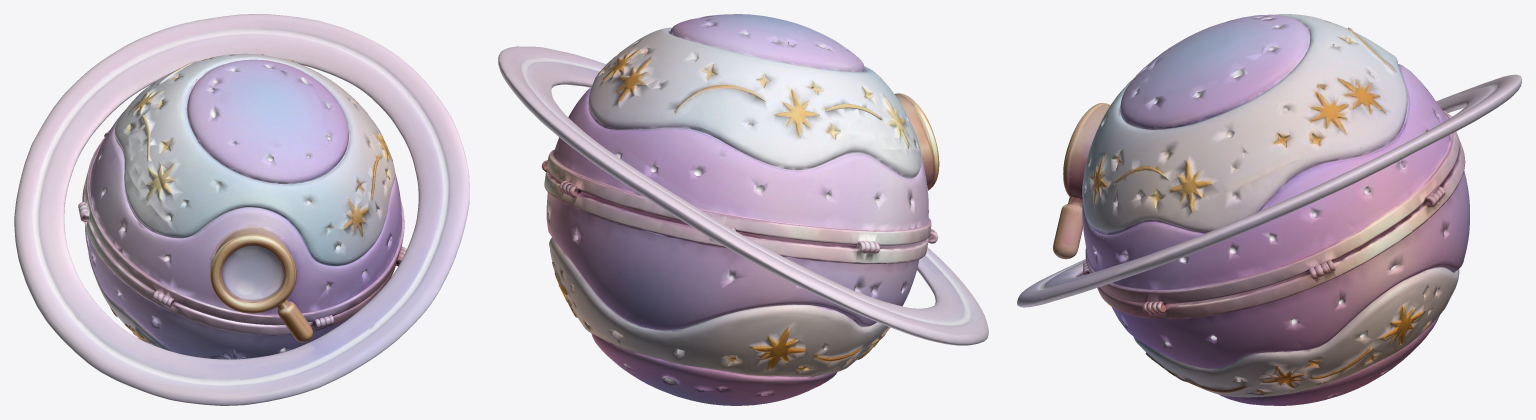
The model's file is planet-mobile.glb.
3 renders of one model, left to right at view 1: azimuth 30°, elevation 25°; view 2: azimuth 150°, elevation 25°; view 3: azimuth 270°, elevation 25°, orthographic. The views are drawn at different scales.
Parts seen in each view (by area): view 1: tripo_part_1, tripo_part_2, tripo_part_0, tripo_part_3; view 2: tripo_part_1, tripo_part_0, tripo_part_2, tripo_part_3; view 3: tripo_part_1, tripo_part_0, tripo_part_2, tripo_part_3.
Part boxes in pixels (<box>): tripo_part_1: <box>84,53,404,325</box>; tripo_part_2: <box>14,14,469,405</box>; tripo_part_0: <box>78,177,406,359</box>; tripo_part_3: <box>210,228,312,342</box>; tripo_part_1: <box>546,14,931,245</box>; tripo_part_0: <box>541,160,938,405</box>; tripo_part_2: <box>498,46,988,345</box>; tripo_part_3: <box>894,93,939,190</box>; tripo_part_1: <box>1082,14,1459,305</box>; tripo_part_0: <box>1083,138,1469,405</box>; tripo_part_2: <box>1017,74,1521,307</box>; tripo_part_3: <box>1053,103,1110,259</box>.
Bounding box in the file's own units: 1 × 0.7528 × 0.963.
Materials: 5 (5 with a texture image).
